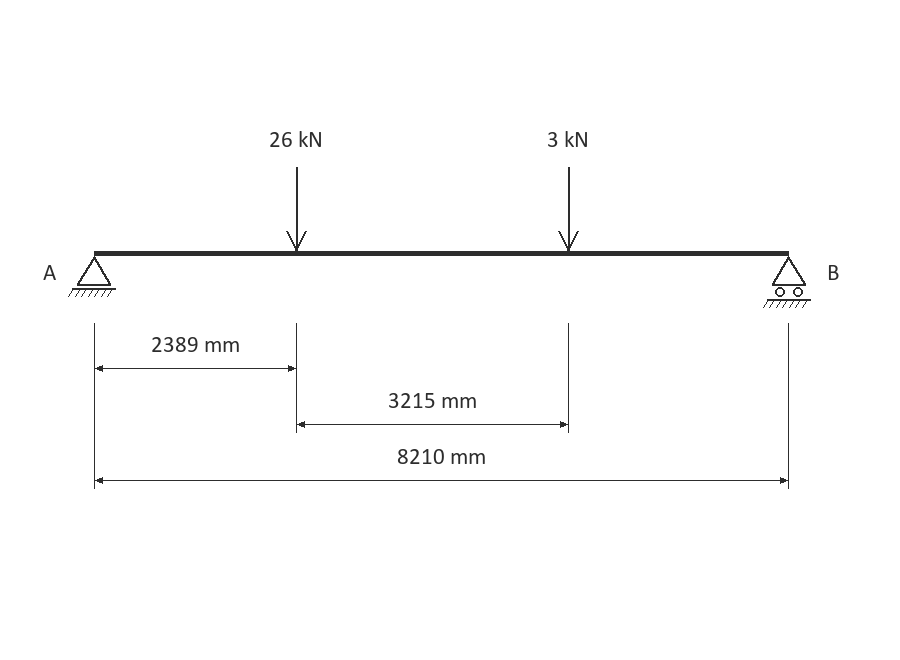pin_support: (68, 256, 116, 297)
point_load: (286, 167, 307, 251), (558, 167, 579, 251)
roller_support: (763, 256, 811, 308)
